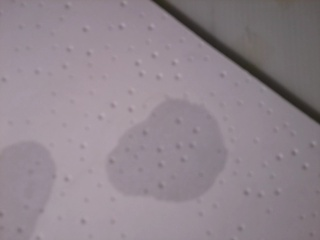Water_detected: (110, 106, 208, 195), (0, 155, 53, 226)
